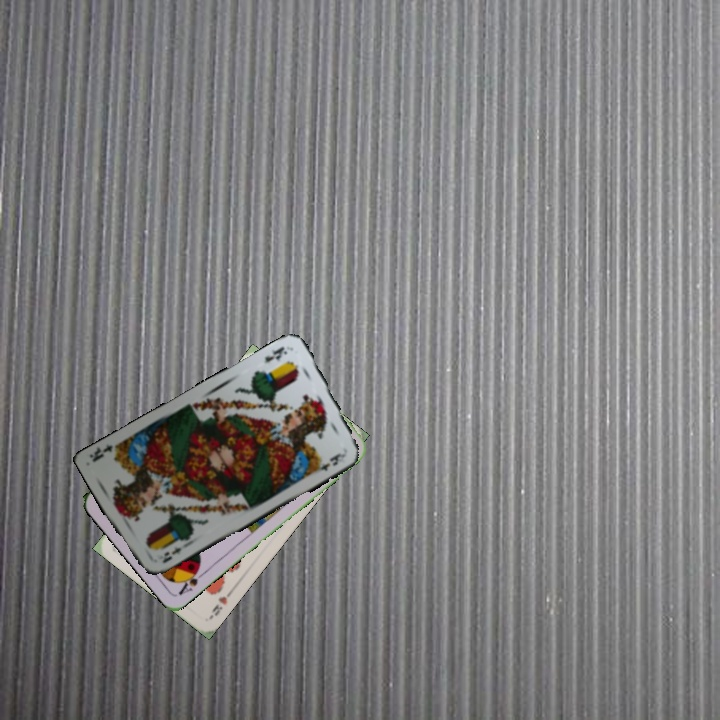EK: (260, 342, 290, 365), (158, 542, 184, 566)
H9: (208, 586, 235, 618)
SA: (174, 563, 209, 598)
